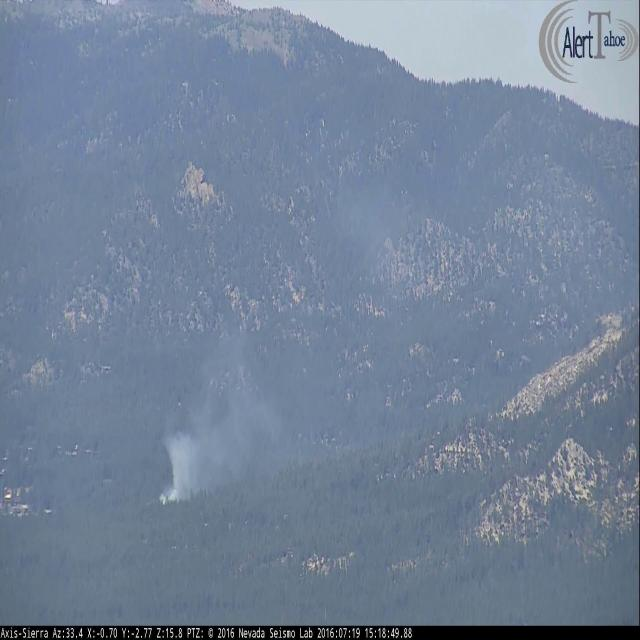smoke: (154, 157, 576, 506)
